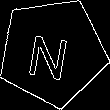N_N: (29, 24, 76, 80)
